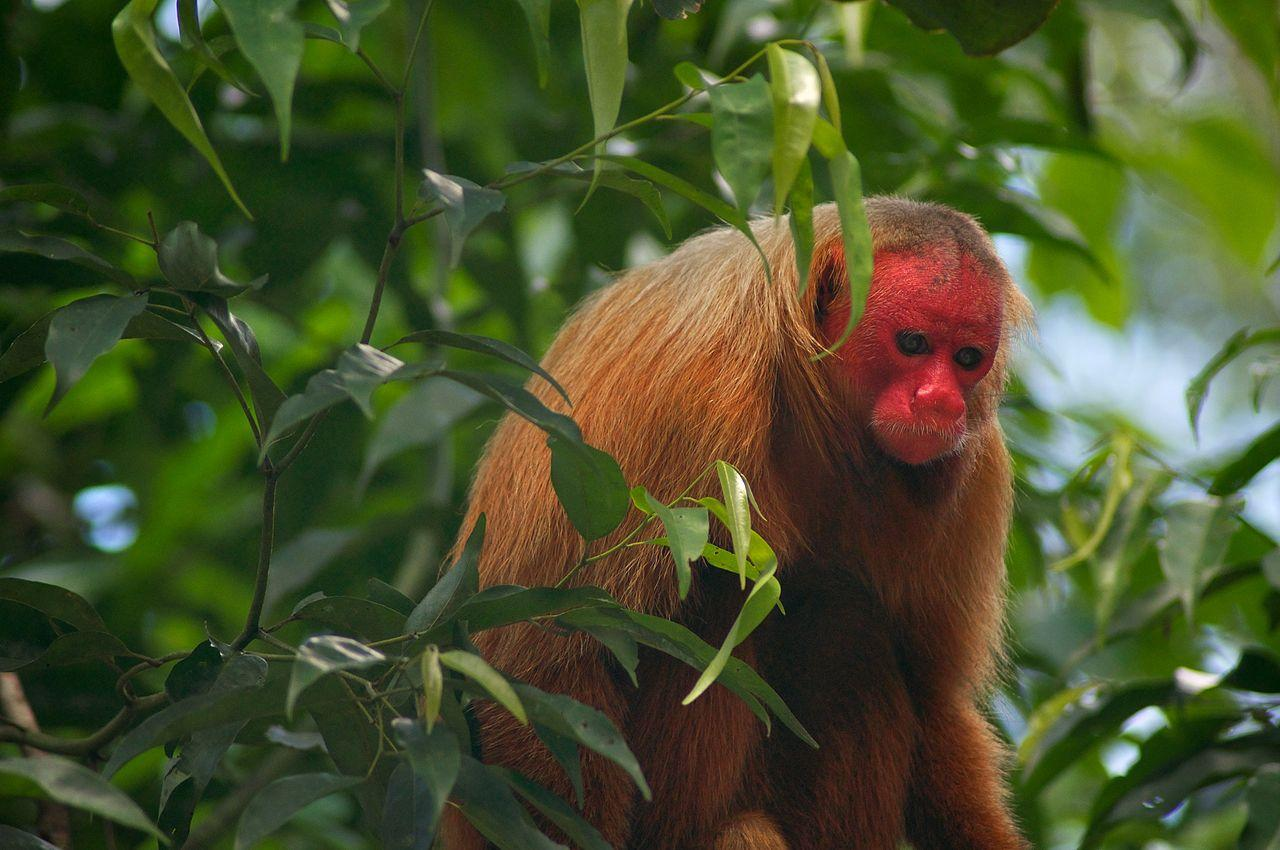monkey: (532, 197, 1037, 850)
